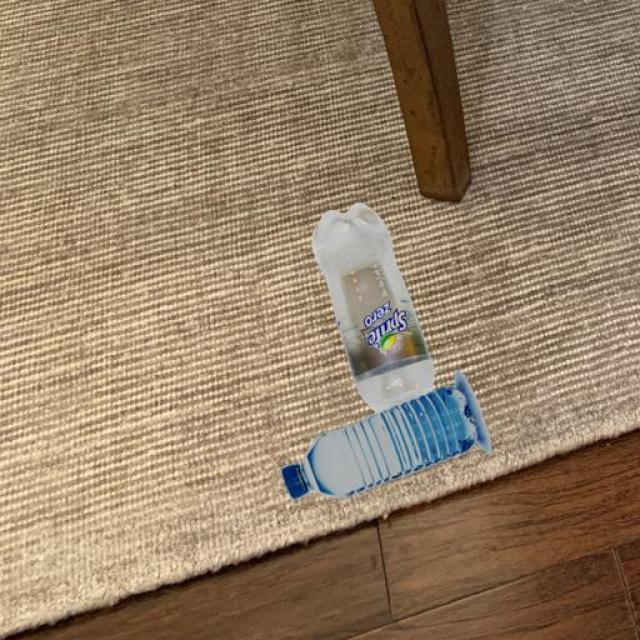bottle: (306, 202, 453, 411), (277, 382, 491, 502)
